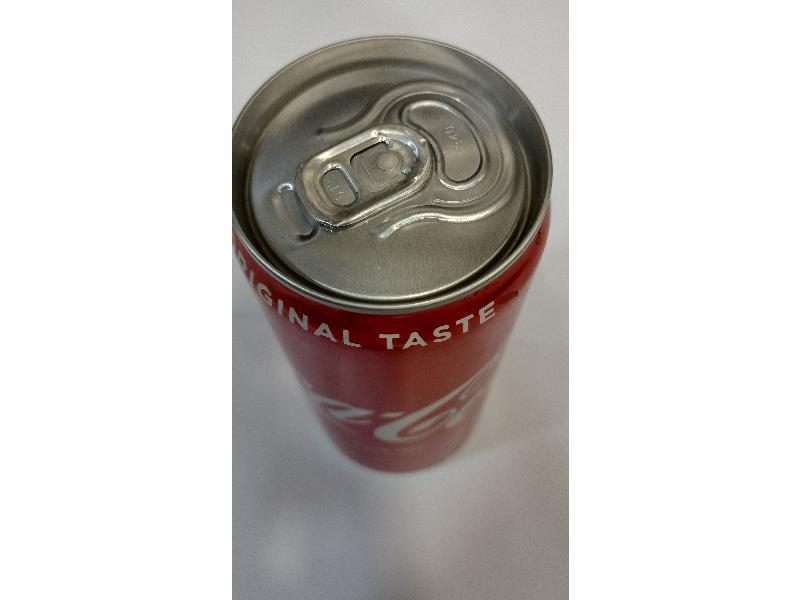can: (232, 35, 554, 323)
